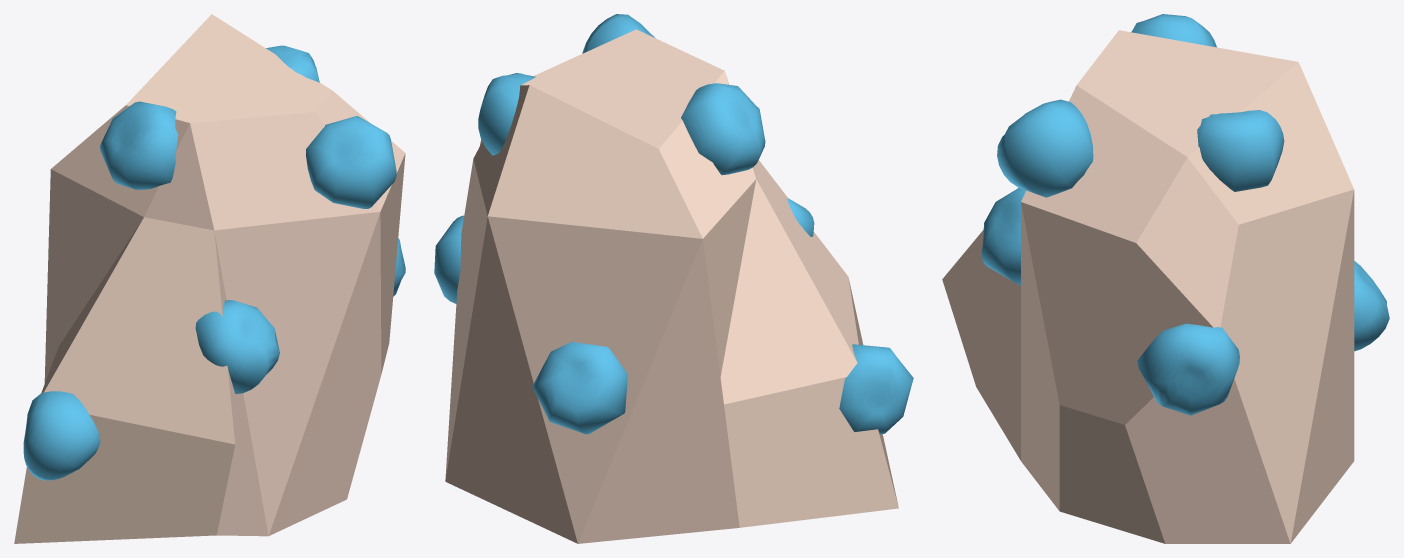
File: rock.glb
3 views of the same model, side by side, from view 1: azimuth 30°, elevation 25°; view 2: azimuth 150°, elevation 25°; view 3: azimuth 270°, elevation 25° (orthographic). The views are drawn at different scales.
Parts seen in each view (by area): view 1: Icosphere, Sphere.003, Sphere.004, Sphere.001, Sphere.002, Sphere; view 2: Icosphere, Sphere.006, Sphere.004, Sphere.001, Sphere, Sphere.005, Sphere.003; view 3: Icosphere, Sphere.005, Sphere.003, Sphere, Sphere.002, Sphere.006, Sphere.004.
Part boxes in pixels (x1,y1,x2,y2): Icosphere: (14, 14, 405, 543); Sphere.003: (306, 116, 396, 208); Sphere.004: (100, 101, 178, 189); Sphere.001: (23, 391, 100, 480); Sphere.002: (195, 300, 279, 393); Sphere: (266, 45, 319, 82); Icosphere: (445, 29, 898, 543); Sphere.006: (532, 342, 627, 434); Sphere.004: (681, 83, 765, 175); Sphere.001: (839, 344, 913, 434); Sphere: (478, 73, 535, 155); Sphere.005: (434, 215, 463, 303); Sphere.003: (582, 14, 654, 53); Icosphere: (942, 30, 1354, 543); Sphere.005: (1137, 323, 1239, 415); Sphere.003: (997, 99, 1093, 197); Sphere: (1197, 110, 1284, 191); Sphere.002: (982, 188, 1026, 285); Sphere.006: (1354, 261, 1389, 351); Sphere.004: (1131, 14, 1216, 47).
Size of the model in its own units: 2.59 by 2.46 by 2.28.
